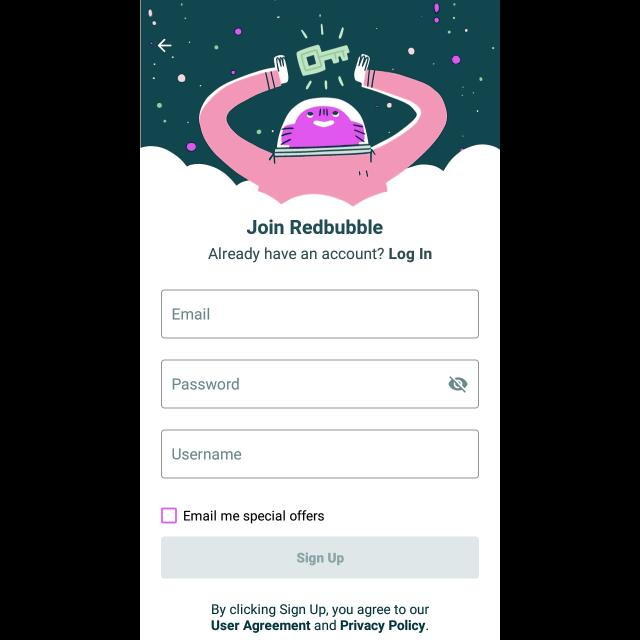checkbox: (162, 508, 176, 522)
icon: (448, 377, 468, 393), (158, 39, 172, 53)
image: (140, 1, 500, 207)
input: (161, 429, 479, 478), (161, 359, 479, 408), (161, 290, 479, 338)
text: (211, 603, 429, 633), (208, 247, 432, 263), (247, 220, 383, 234), (184, 511, 324, 524), (173, 378, 239, 390), (174, 448, 242, 459), (173, 308, 210, 320)
textbutton: (162, 537, 478, 579)
